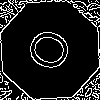O: (25, 25, 82, 77)
